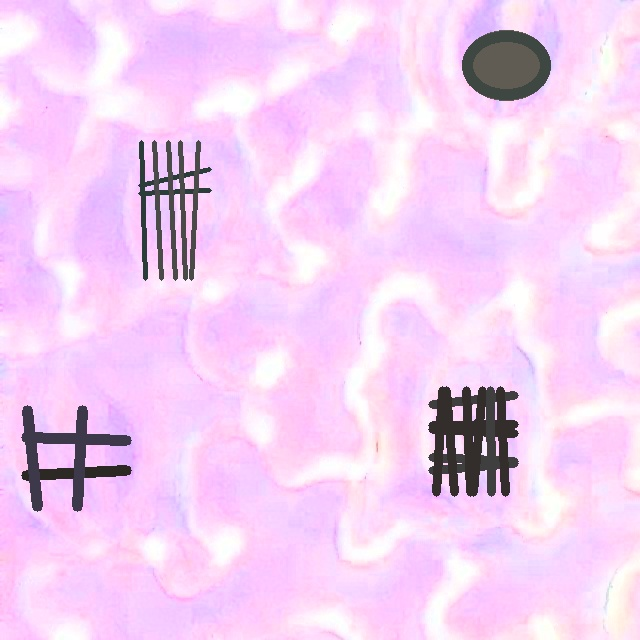open: (21, 405, 130, 510), (138, 140, 211, 280), (428, 387, 517, 495), (462, 30, 549, 100)
